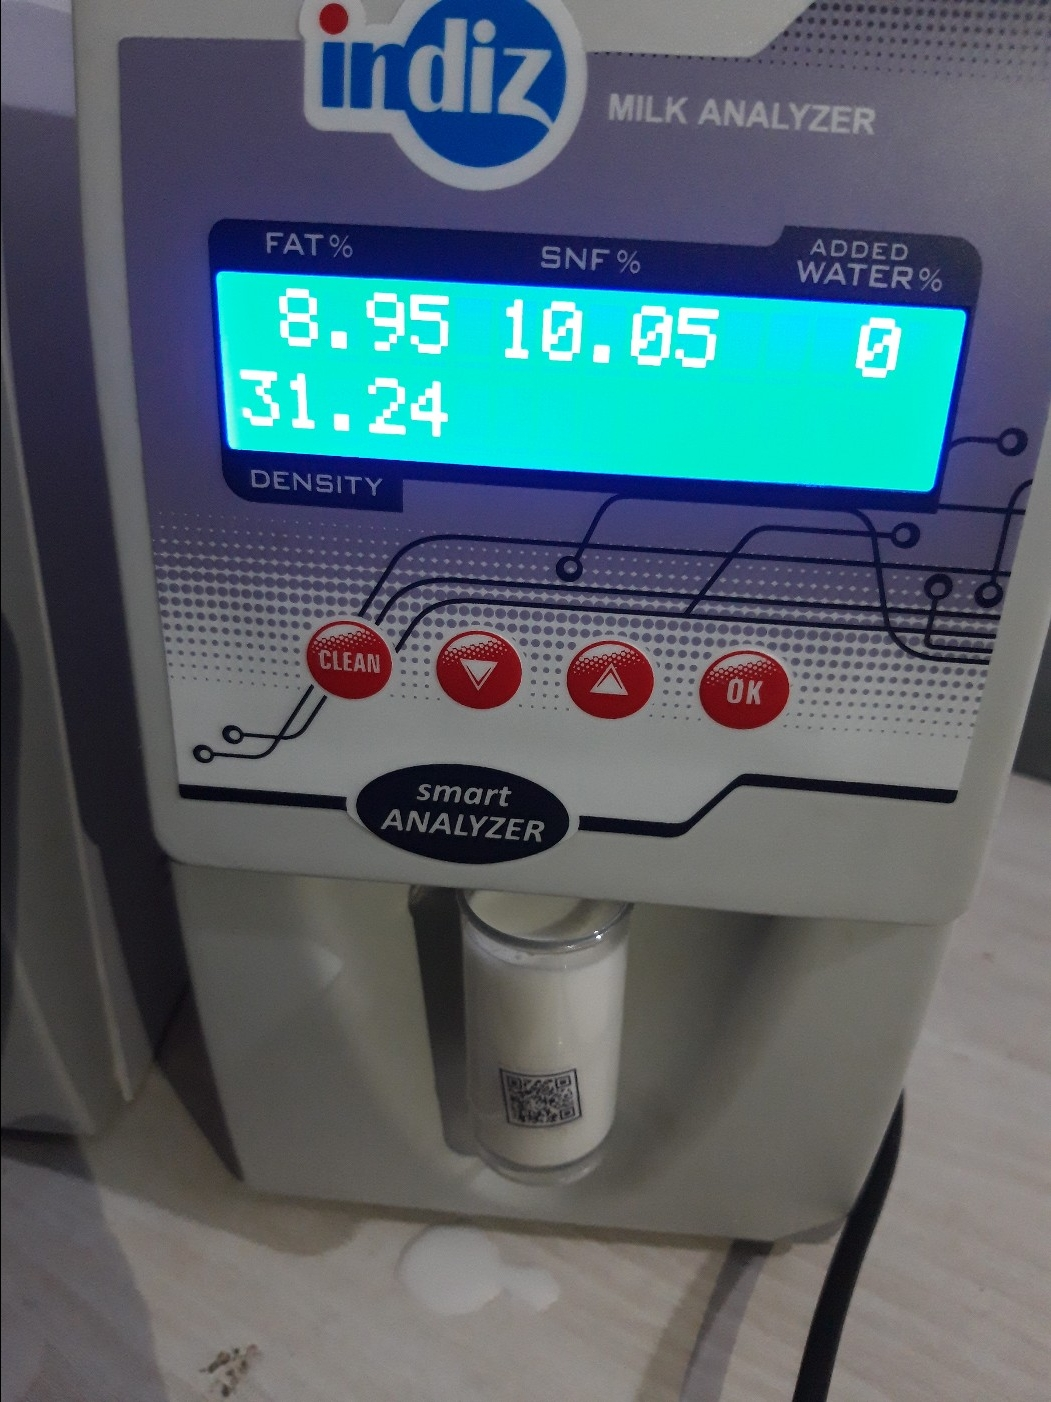lcd: (197, 262, 988, 509)
qr: (492, 1058, 611, 1143)
